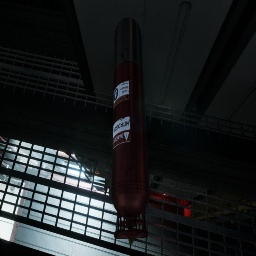EmergencyPhone ,: (88, 166, 100, 173)
FireAlarm ,: (95, 171, 101, 175)
NitrogenTank ,: (111, 18, 150, 244)
SafetySwitchPanel ,: (12, 151, 38, 170)
